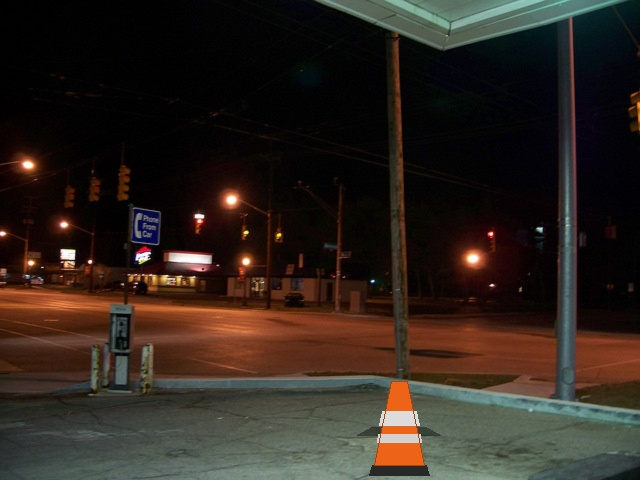traffic-cone: (369, 381, 429, 475)
